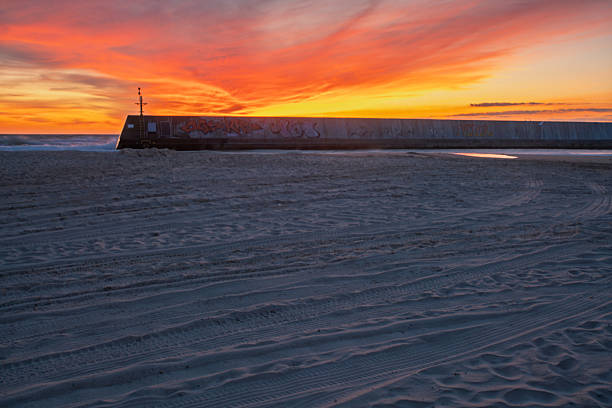vehicle_track: (0, 243, 575, 387), (159, 287, 611, 407), (88, 234, 438, 323)
